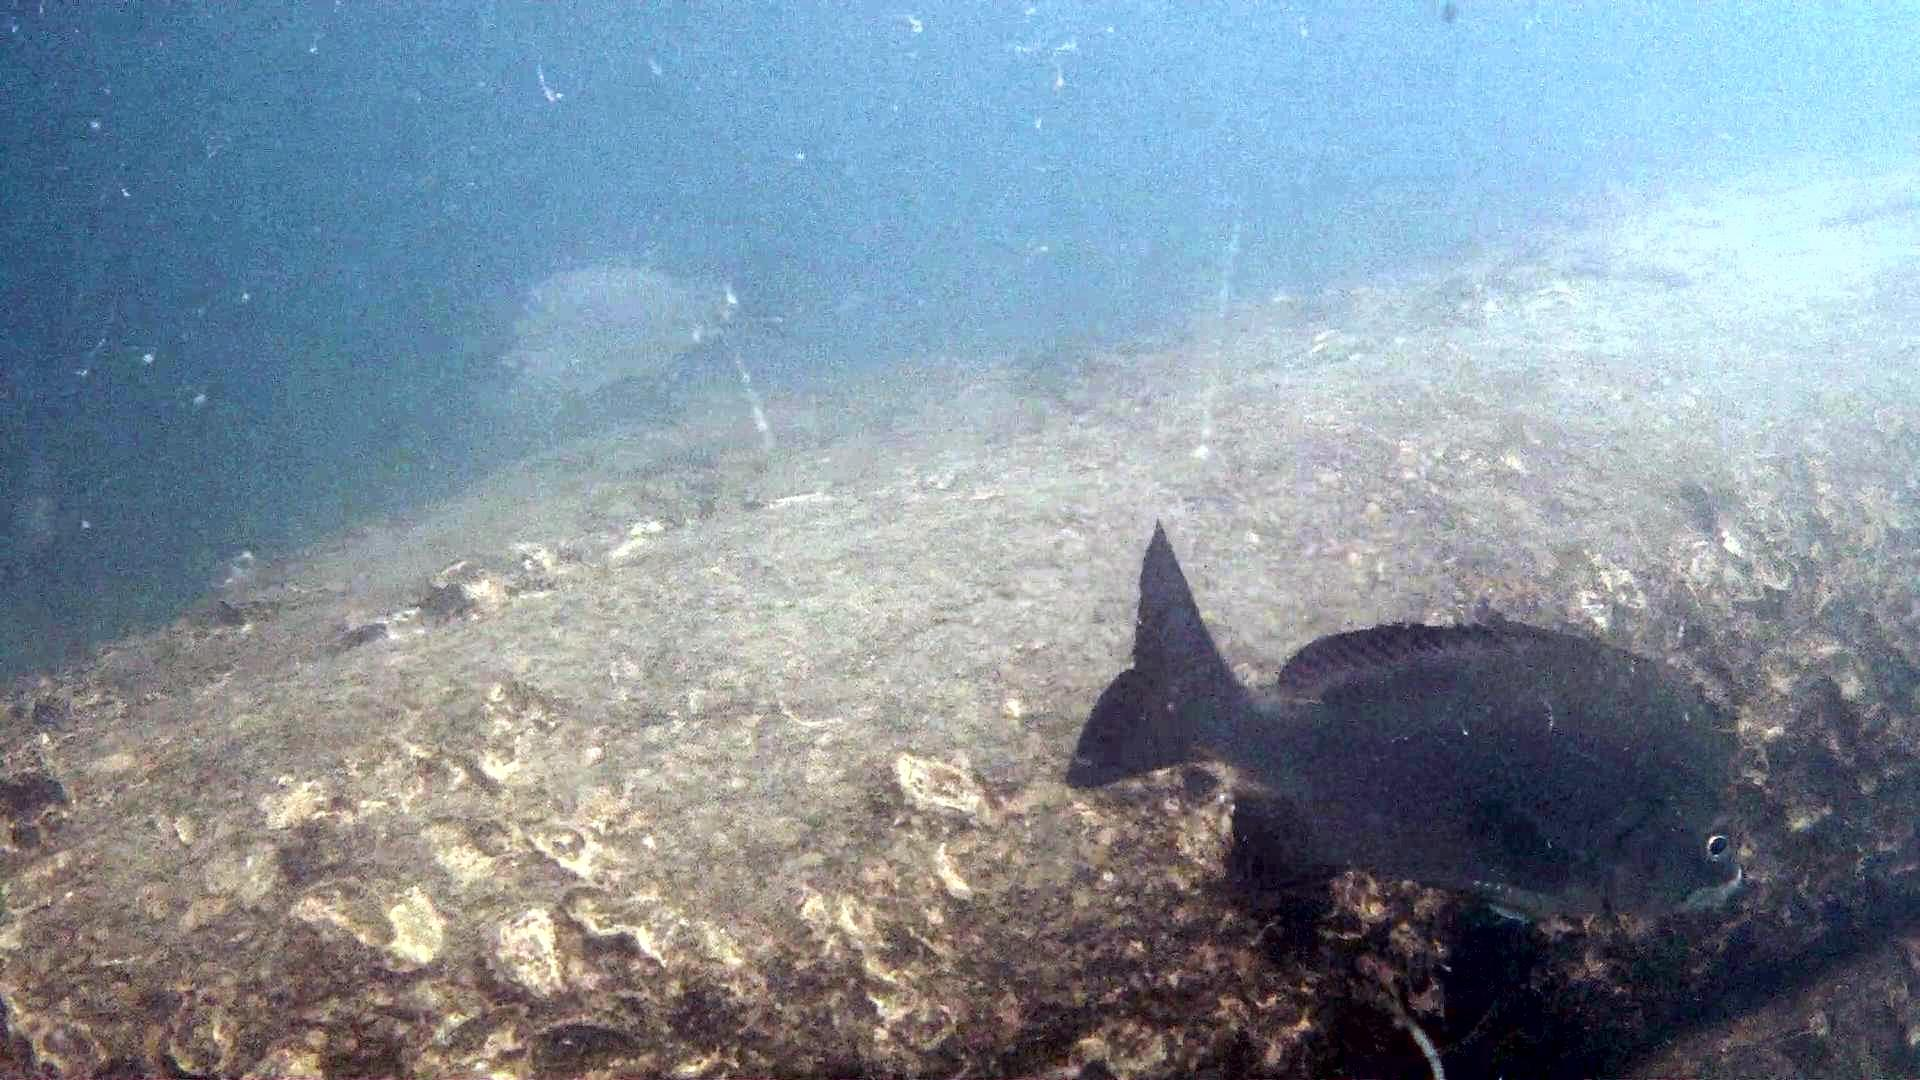acanthopagrus palmaris: (1055, 510, 1745, 1050)
